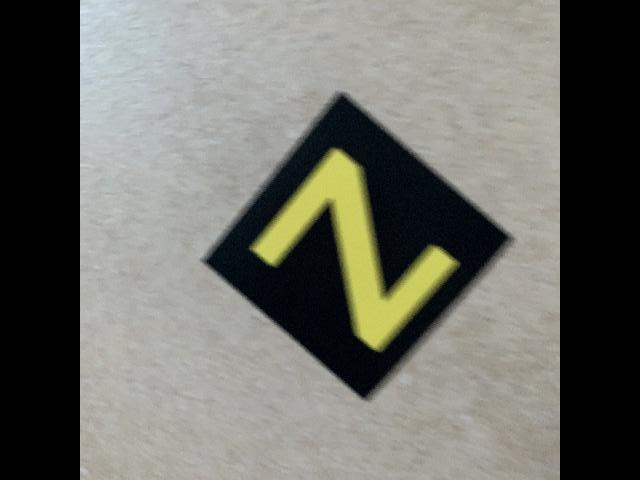alphabet_z: (198, 88, 520, 404)
